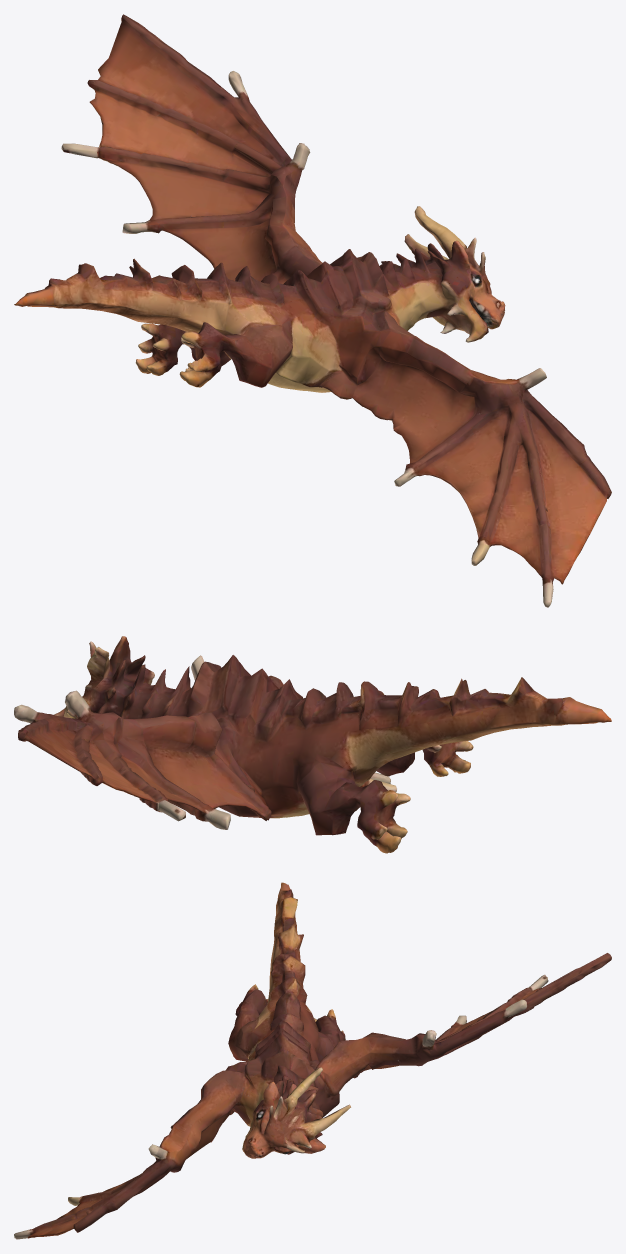
The model's file is dragon.glb.
3 views of the same model, one above another, from view 1: azimuth 30°, elevation 25°; view 2: azimuth 150°, elevation 25°; view 3: azimuth 270°, elevation 25° (orthographic). The views are drawn at different scales.
Visible parts, largest first — view 1: tripo_node_5feca8a4-bd39-4375-9ec2-849c497f3633; view 2: tripo_node_5feca8a4-bd39-4375-9ec2-849c497f3633; view 3: tripo_node_5feca8a4-bd39-4375-9ec2-849c497f3633.
Boxes of the visible parts, bbox=[...] form: tripo_node_5feca8a4-bd39-4375-9ec2-849c497f3633: bbox=[14, 14, 611, 607]; tripo_node_5feca8a4-bd39-4375-9ec2-849c497f3633: bbox=[14, 636, 611, 853]; tripo_node_5feca8a4-bd39-4375-9ec2-849c497f3633: bbox=[14, 882, 611, 1239].
Bounding box in the file's own units: 0.8389 × 0.5631 × 1.15.
1 material, 1 textured.
